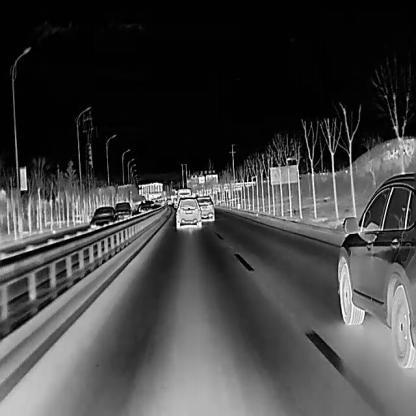car: (336, 170, 415, 369), (88, 205, 120, 237), (174, 196, 202, 229), (196, 194, 215, 222), (114, 202, 132, 223), (176, 187, 191, 207), (138, 201, 153, 214)
